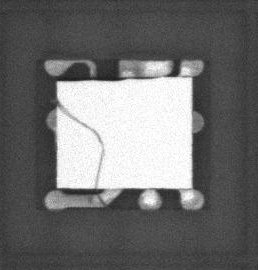DIE_BROKEN: (56, 75, 127, 83)
